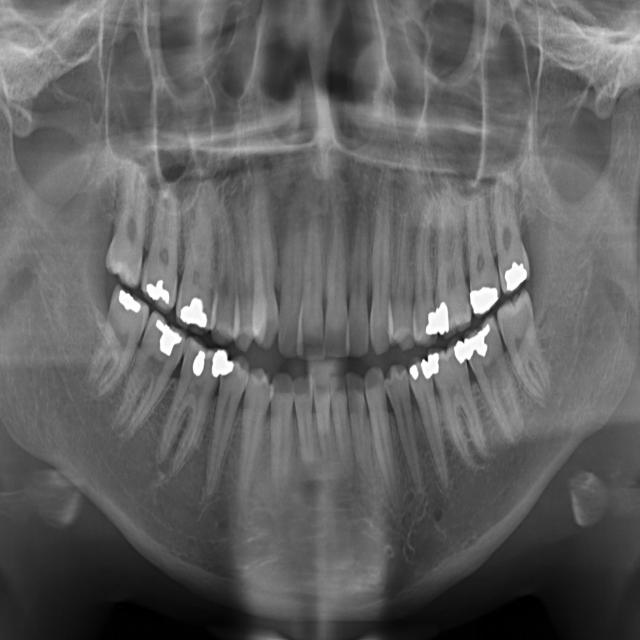AmalgamRestoration: (151, 318, 181, 355), (468, 325, 493, 364), (178, 295, 209, 325), (147, 272, 172, 306), (118, 284, 142, 318), (471, 287, 501, 314), (505, 261, 527, 294), (437, 301, 452, 339), (190, 346, 205, 381), (213, 344, 227, 381), (456, 339, 468, 368), (421, 356, 433, 385), (426, 308, 438, 334), (223, 359, 233, 389), (409, 360, 420, 384), (430, 355, 444, 372)
Crown: (450, 328, 489, 363), (424, 301, 448, 331)
DentalCaries: (460, 287, 472, 315)
